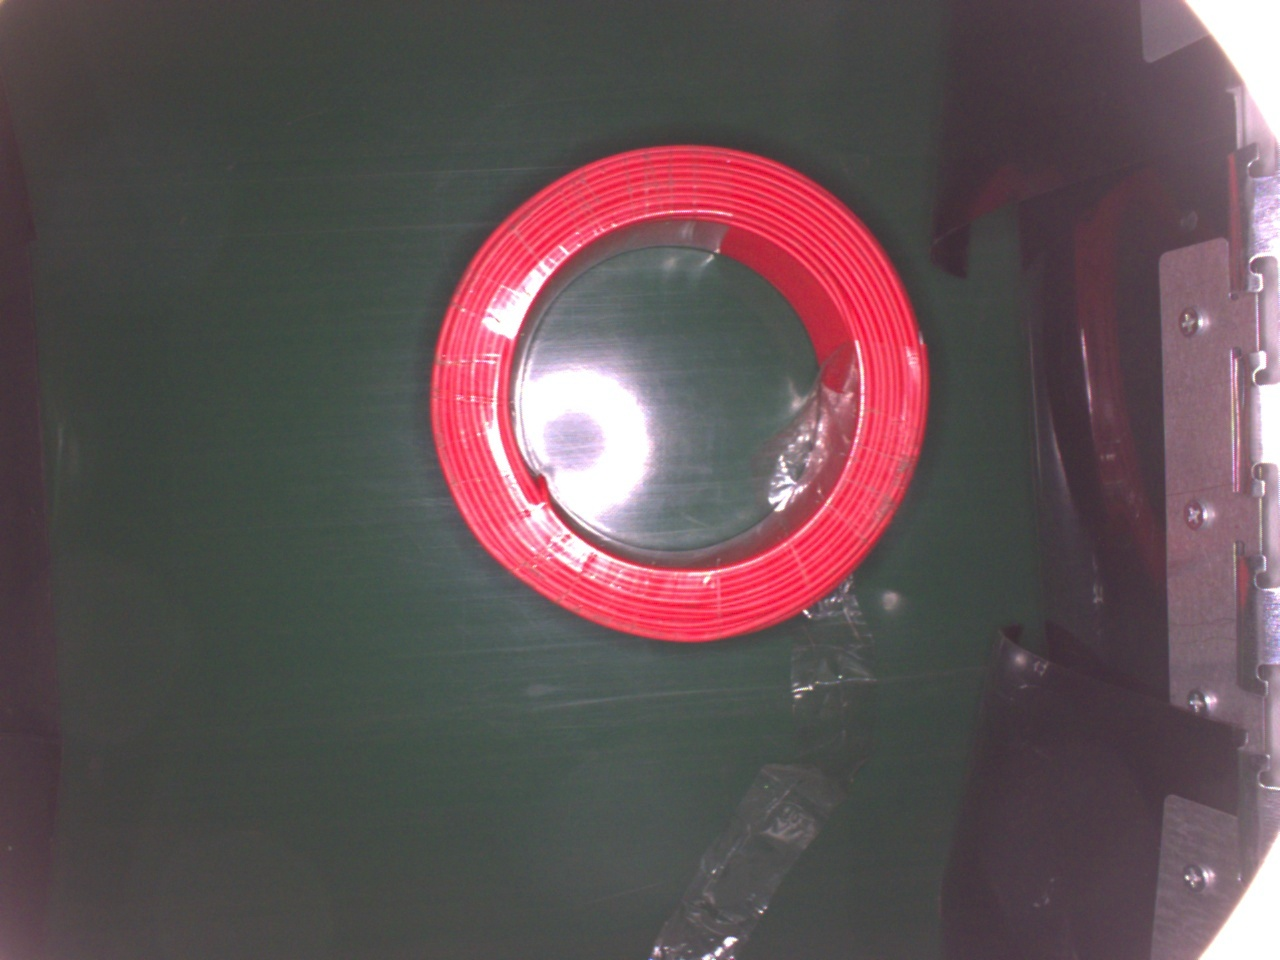red: (418, 142, 930, 642)
